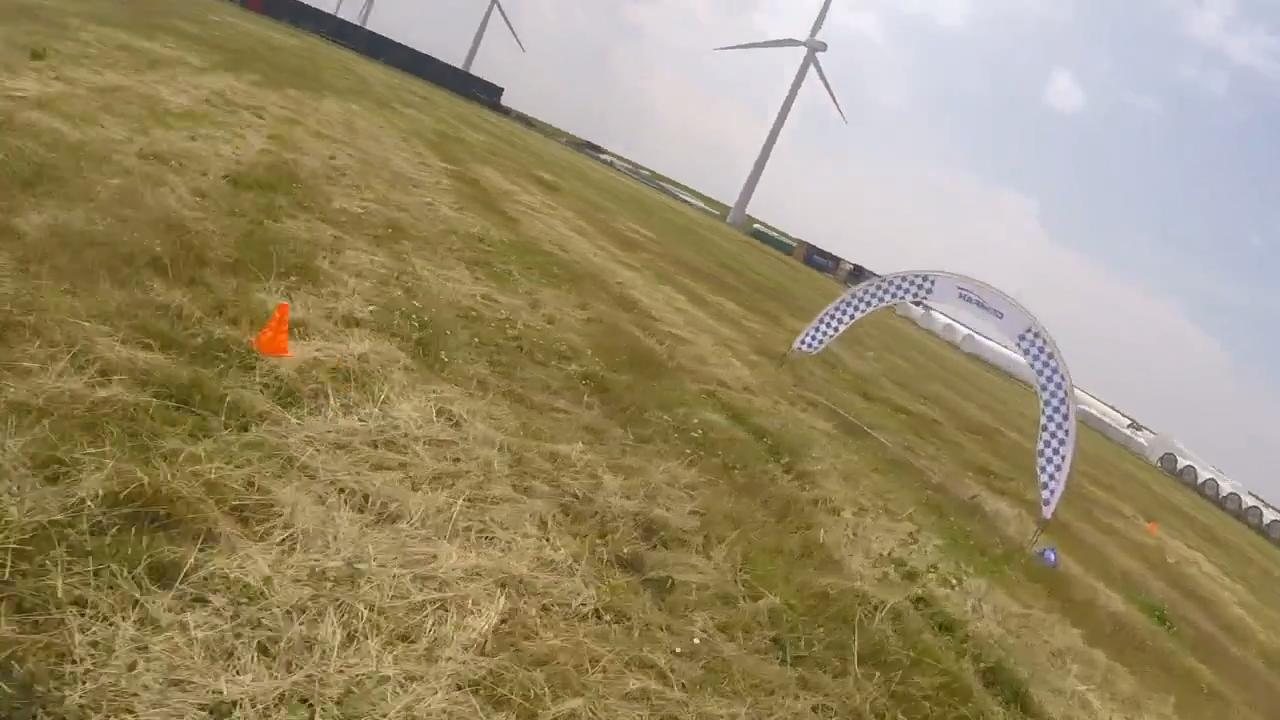gate: (792, 270, 1078, 522)
